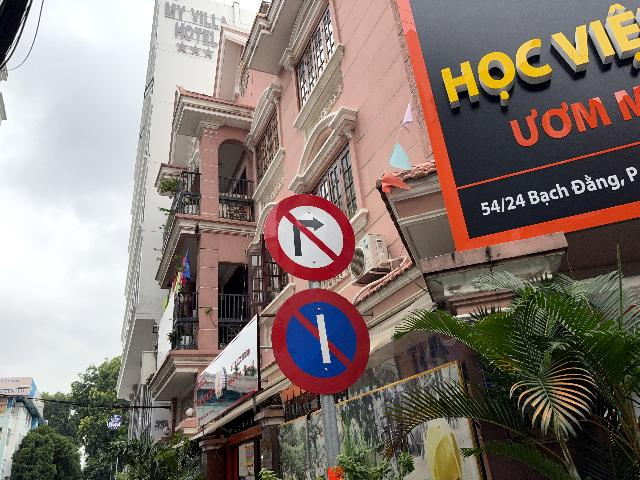cam-do-xe-ngay-le: (271, 288, 371, 394)
cam-re-phai: (265, 194, 356, 280)
